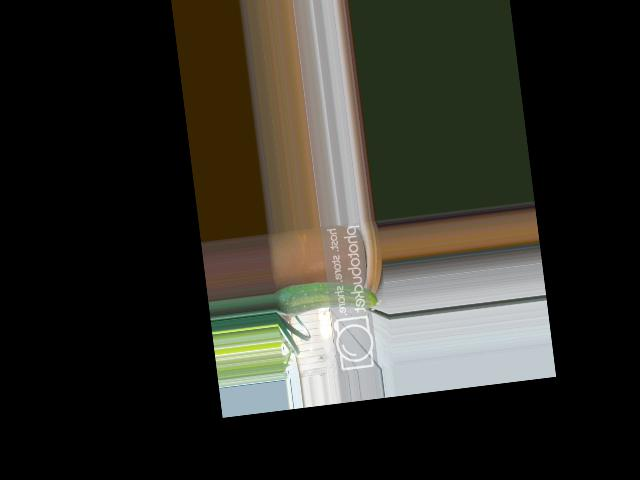cucumber: (274, 275, 383, 319)
